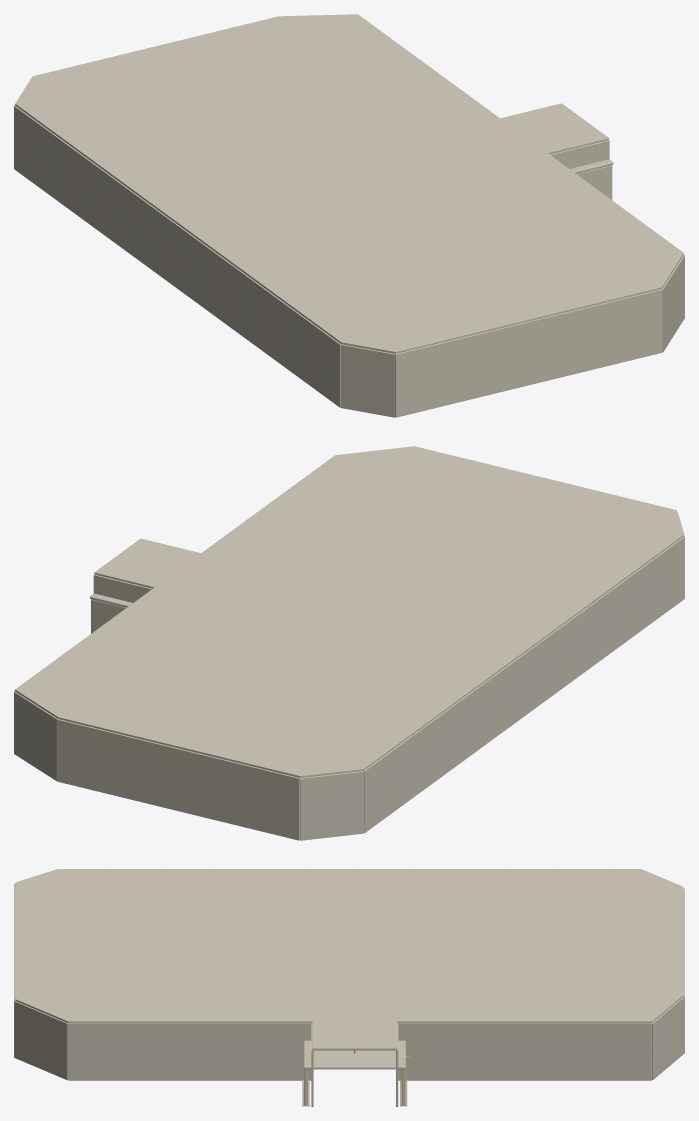
File: SOL_D09_directory_03_source001.glb
3 views of the same model, one above another, from view 1: azimuth 30°, elevation 25°; view 2: azimuth 150°, elevation 25°; view 3: azimuth 270°, elevation 25° (orthographic). The views are drawn at different scales.
Parts seen in each view (by area): view 1: Enclosure_top, Perimeter_5, Perimeter_7, Perimeter_6, Perimeter_8, Perimeter_10, Entry_pier_38.6; view 2: Enclosure_top, Perimeter_5, Perimeter_3, Perimeter_4, Perimeter_2, Perimeter_0, Entry_pier_29.4; view 3: Enclosure_top, Perimeter_1, Perimeter_9, Perimeter_8, Entry_lintel, Perimeter_2.
Boxes of the visible parts, x1,y1,x2,y2 form: Enclosure_top: (15,14,683,353); Perimeter_5: (14,106,340,407); Perimeter_7: (395,289,662,417); Perimeter_6: (340,344,395,417); Perimeter_8: (662,255,684,351); Perimeter_10: (550,140,609,168); Entry_pier_38.6: (576,165,612,199); Enclosure_top: (15,446,683,777); Perimeter_5: (363,536,684,833); Perimeter_3: (57,719,299,840); Perimeter_4: (300,771,363,840); Perimeter_2: (14,691,57,781); Perimeter_0: (93,574,152,602); Entry_pier_29.4: (91,599,126,633); Enclosure_top: (15,869,683,1050); Perimeter_1: (398,1023,651,1080); Perimeter_9: (68,1023,311,1080); Perimeter_8: (14,1001,68,1080); Entry_lintel: (304,1040,405,1069); Perimeter_2: (652,996,684,1079).
Size of the model in its own units: 40.11 by 6.1 by 63.22.
28 materials, 28 textured.
